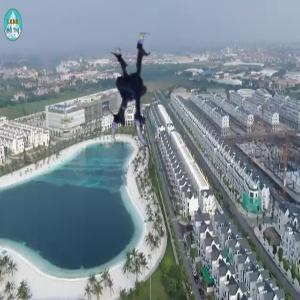drone: (87, 36, 200, 149)
